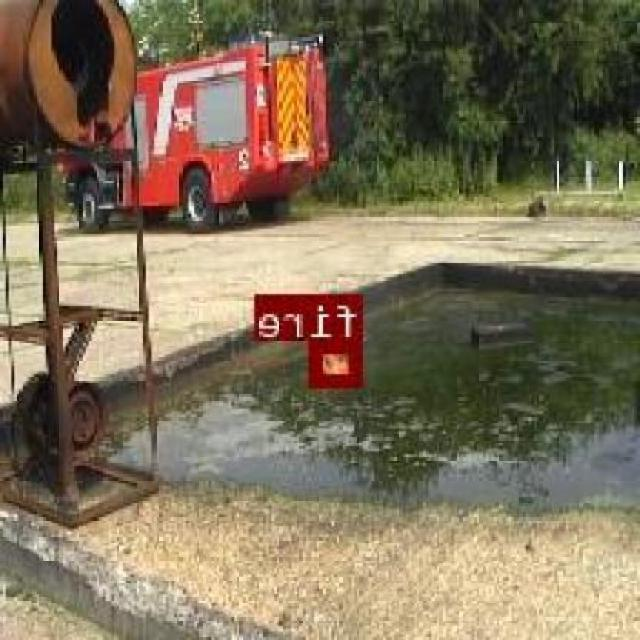Fire: (314, 338, 364, 386)
